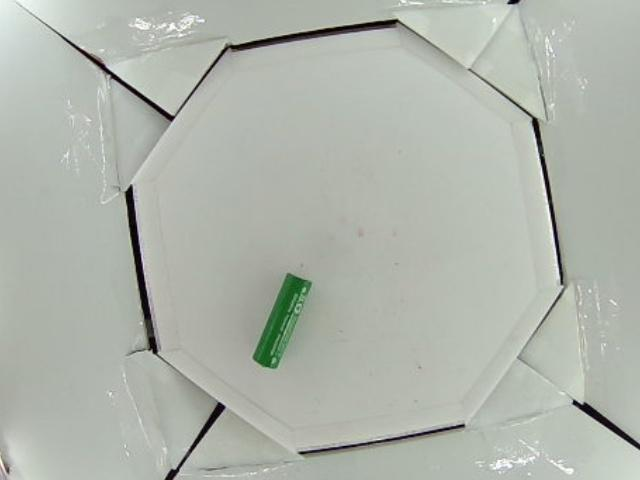Battery: (250, 274, 314, 368)
